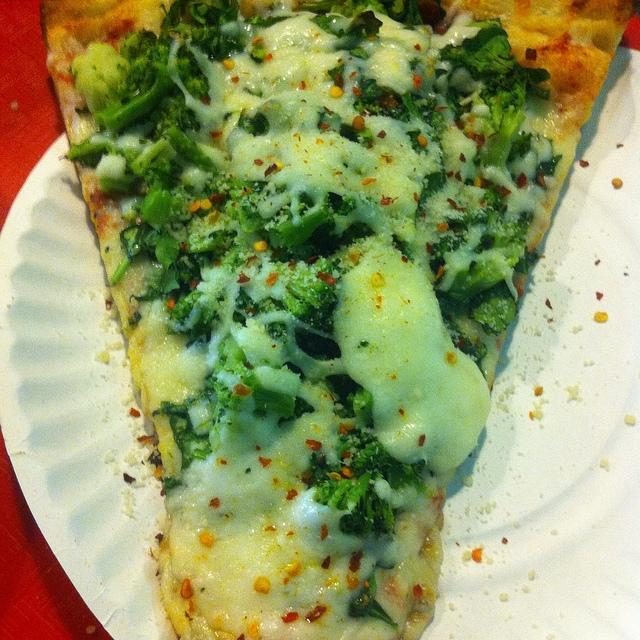broccoli: (95, 42, 193, 132), (152, 388, 214, 472), (448, 243, 518, 304), (352, 434, 426, 490), (439, 24, 518, 76), (108, 136, 178, 194), (153, 74, 210, 143), (309, 12, 383, 59), (167, 289, 224, 349), (232, 286, 288, 344), (190, 0, 243, 61), (269, 209, 327, 264), (468, 279, 520, 336), (348, 572, 399, 630), (206, 354, 256, 412), (140, 186, 196, 234), (326, 374, 374, 427), (486, 106, 526, 168), (58, 132, 118, 168), (154, 226, 180, 272), (400, 91, 428, 124), (418, 172, 443, 206), (237, 112, 270, 136), (352, 100, 382, 114)
